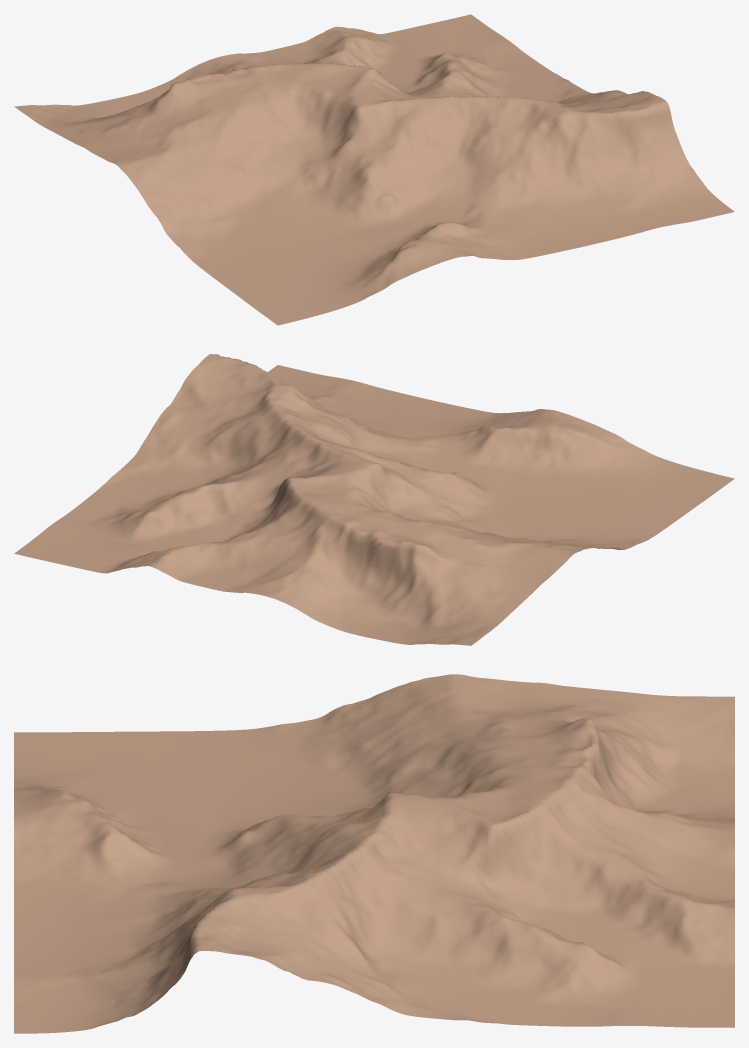
The picture shows the model from 3 angles, top to bottom: view 1: azimuth 30°, elevation 25°; view 2: azimuth 150°, elevation 25°; view 3: azimuth 270°, elevation 25°; orthographic projection. The views are drawn at different scales.
Parts seen in each view (by area): view 1: DM_lod_3; view 2: DM_lod_3; view 3: DM_lod_3.
Boxes of the visible parts, bbox=[...] form: DM_lod_3: bbox=[14, 14, 734, 325]; DM_lod_3: bbox=[14, 354, 734, 645]; DM_lod_3: bbox=[14, 674, 734, 1033].
Bounding box in the file's own units: 300 × 39.59 × 300.
